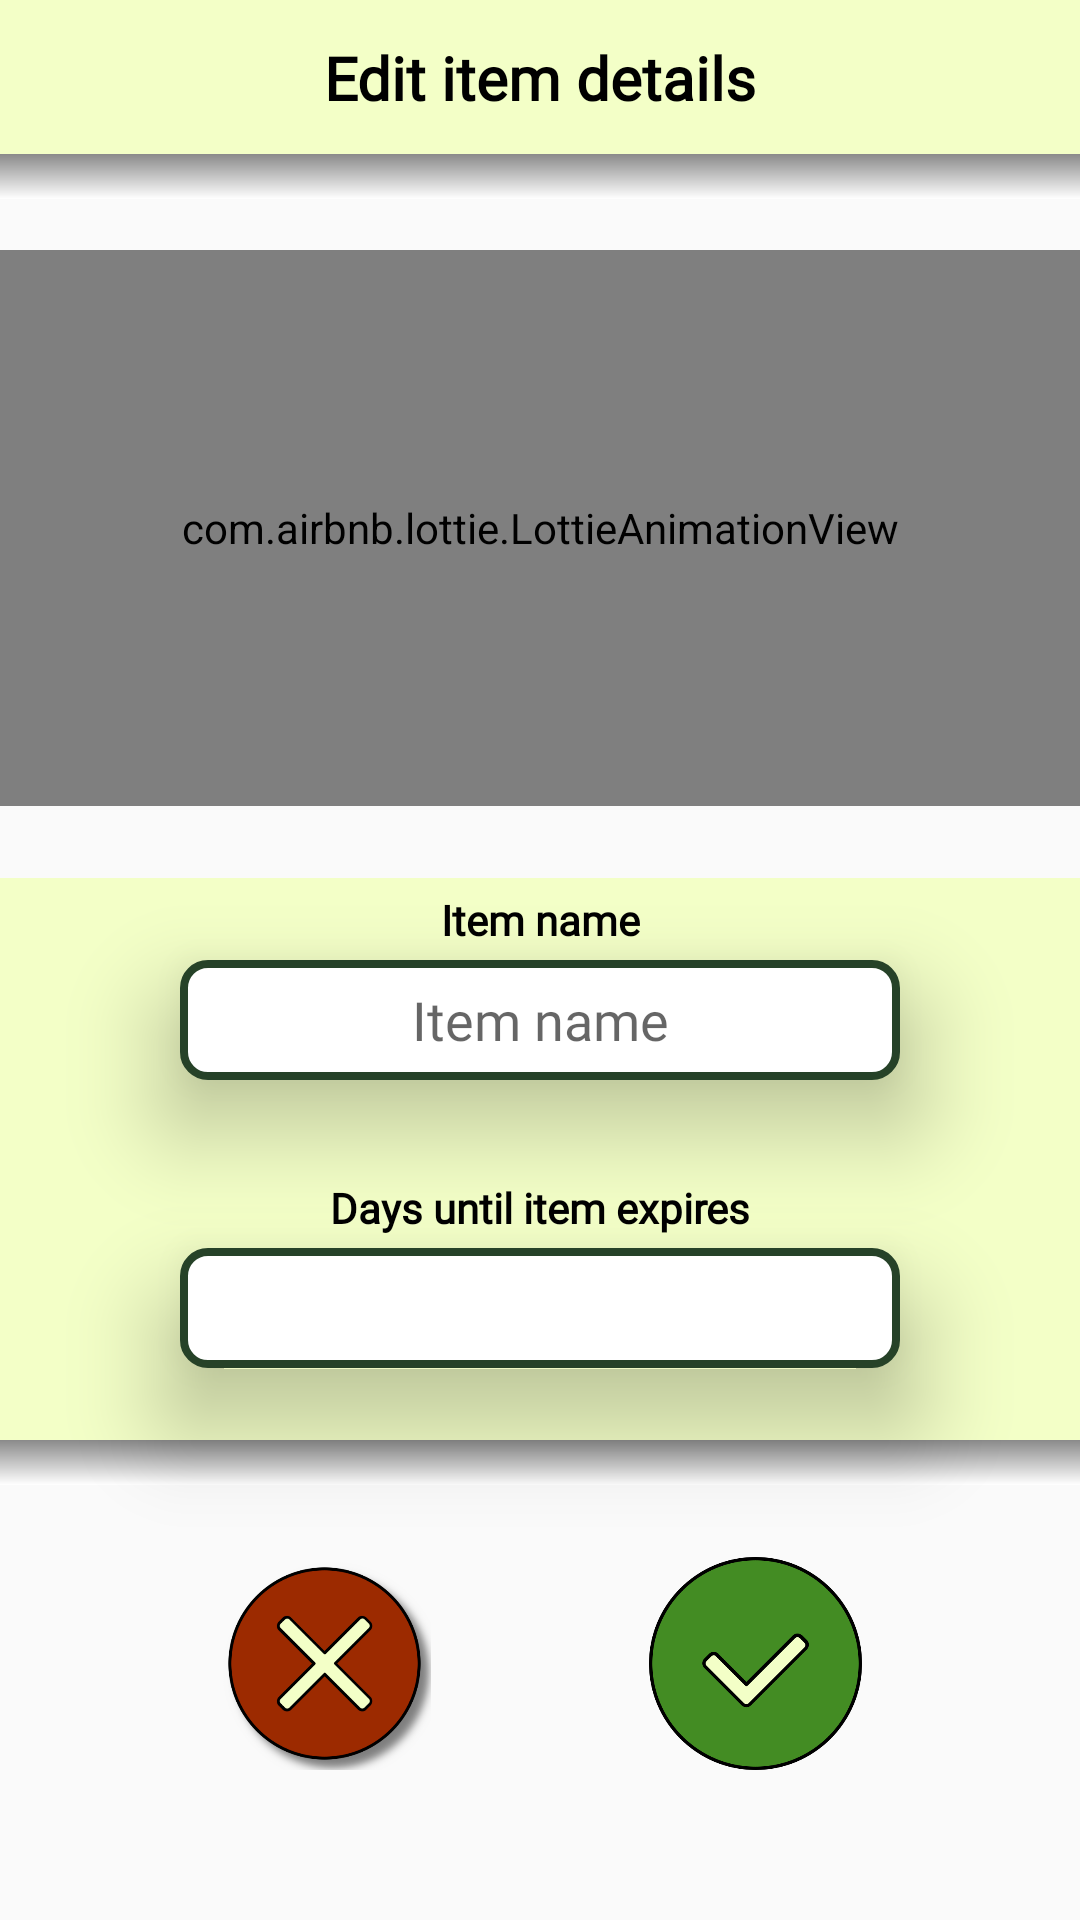

Screen size 1080x1920. Icon name, then its center in pixels as (x,y):
newest cancelbtn: (329,1668)
newest confirmbtn: (755,1663)
